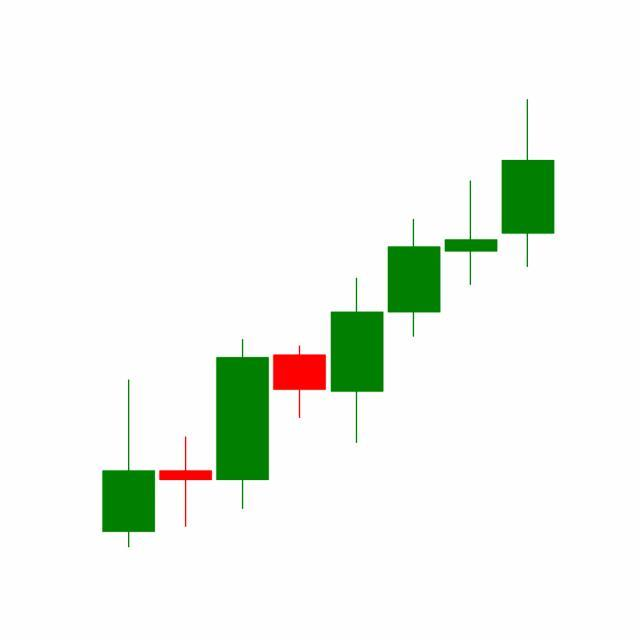Advance Block: (328, 178, 500, 447)
